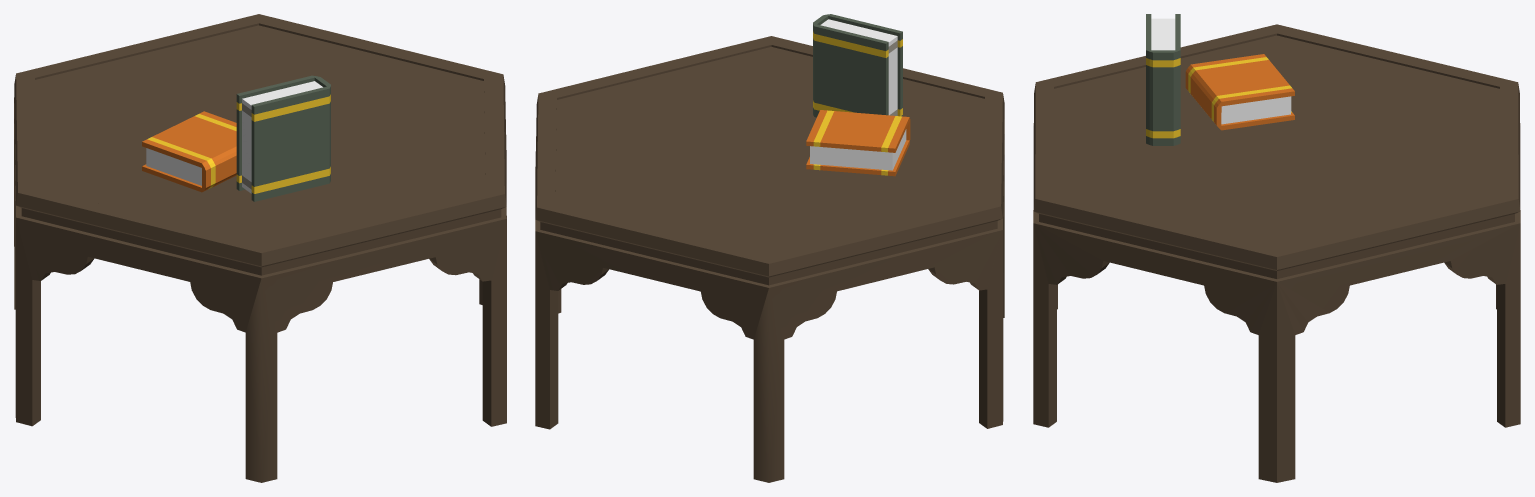
The model's file is SM_Table_06.glb.
3 views of the same model, side by side, from view 1: azimuth 30°, elevation 25°; view 2: azimuth 150°, elevation 25°; view 3: azimuth 270°, elevation 25° (orthographic). The views are drawn at different scales.
Parts seen in each view (by area): view 1: SM_Table_06; view 2: SM_Table_06; view 3: SM_Table_06.
Part boxes in pixels (<box>): SM_Table_06: <box>14,14,506,482</box>; SM_Table_06: <box>535,14,1004,482</box>; SM_Table_06: <box>1033,14,1520,482</box>.
Size of the model in its own units: 1.09 by 0.6867 by 0.9575.
1 material, 1 textured.
